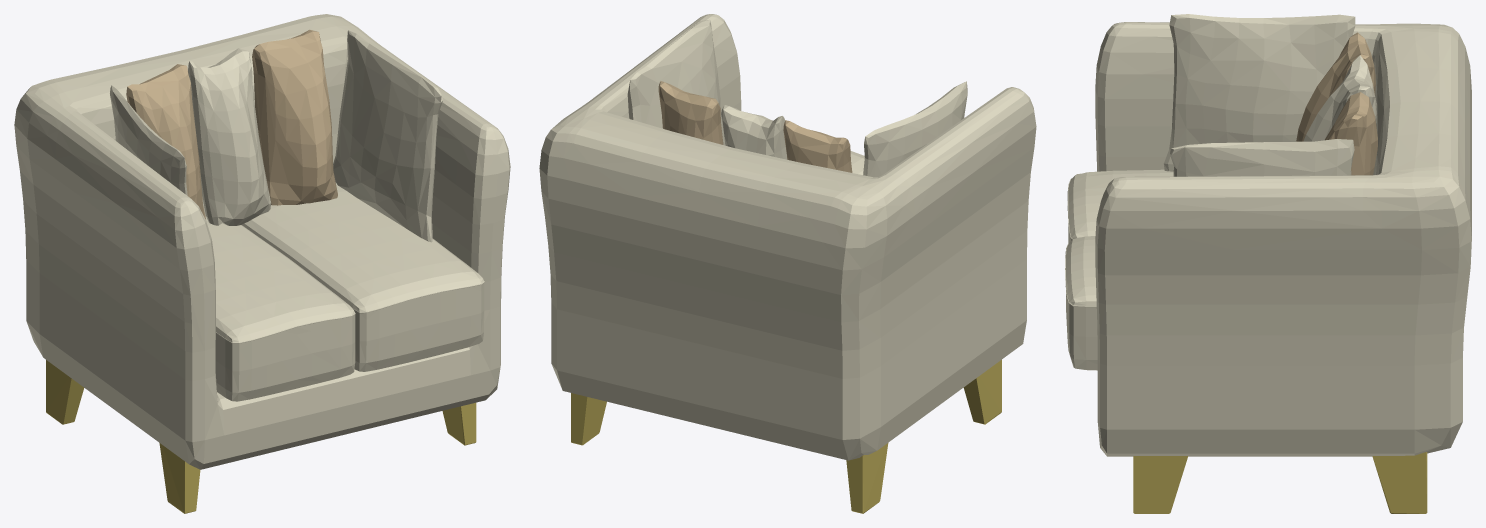
The model's file is sh-scopia-clear-sofa.glb.
3 views of the same model, side by side, from view 1: azimuth 30°, elevation 25°; view 2: azimuth 150°, elevation 25°; view 3: azimuth 270°, elevation 25° (orthographic). The views are drawn at different scales.
Parts seen in each view (by area): view 1: cushion_clear2_Cube.006, cushion_dark2_Cube.005, cushion_clear3_Cube.007, legs_Cube.008; view 2: cushion_clear2_Cube.006, cushion_clear3_Cube.007, cushion_dark2_Cube.005, legs_Cube.008; view 3: cushion_clear2_Cube.006, cushion_clear3_Cube.007, legs_Cube.008, cushion_dark2_Cube.005.
Part boxes in pixels (x1,y1,x2,y2): cushion_clear2_Cube.006: [14, 14, 510, 469]; cushion_dark2_Cube.005: [126, 29, 337, 219]; cushion_clear3_Cube.007: [333, 30, 442, 242]; legs_Cube.008: [46, 360, 476, 513]; cushion_clear2_Cube.006: [539, 14, 1036, 460]; cushion_clear3_Cube.007: [627, 19, 720, 128]; cushion_dark2_Cube.005: [658, 81, 852, 172]; legs_Cube.008: [571, 359, 1001, 513]; cushion_clear2_Cube.006: [1065, 14, 1471, 456]; cushion_clear3_Cube.007: [1170, 139, 1354, 176]; legs_Cube.008: [1133, 452, 1427, 513]; cushion_dark2_Cube.005: [1296, 32, 1377, 175].
Size of the model in its own units: 1 by 1 by 1.
